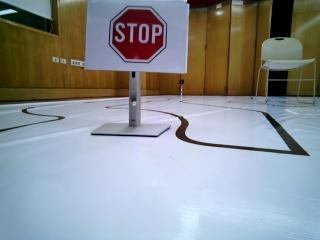stop: (93, 2, 183, 69)
